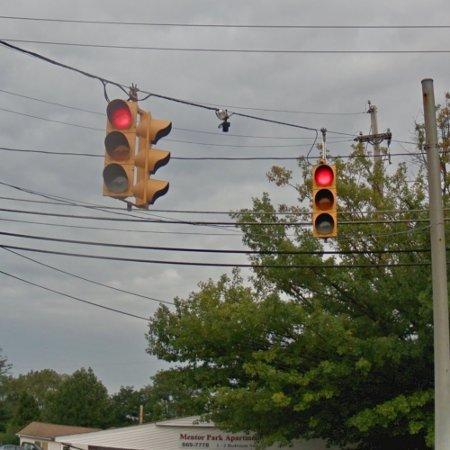traffic lights: (314, 164, 338, 238)
